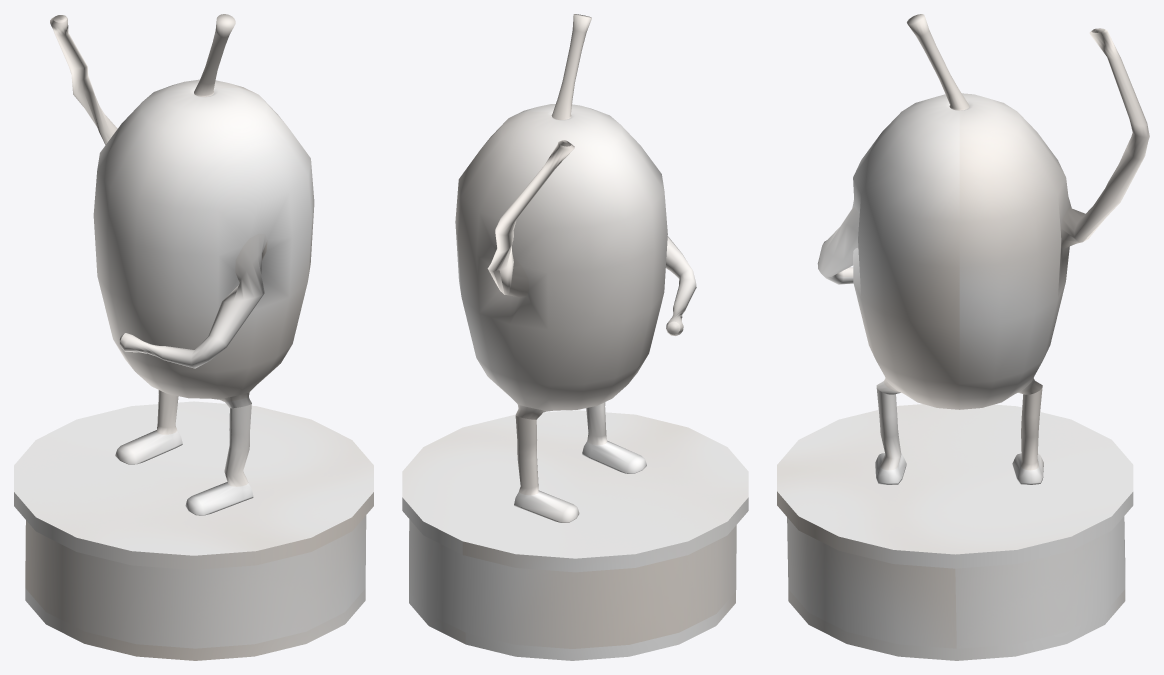
The model's file is Statue_2.fbx.
3 views of the same model, side by side, from view 1: azimuth 30°, elevation 25°; view 2: azimuth 150°, elevation 25°; view 3: azimuth 270°, elevation 25° (orthographic). The views are drawn at different scales.
Visible parts, largest first — view 1: grape body; view 2: grape body; view 3: grape body.
Boxes of the visible parts, bbox=[...] form: grape body: bbox=[14, 14, 373, 660]; grape body: bbox=[402, 14, 748, 660]; grape body: bbox=[777, 14, 1149, 660].
Size of the model in its own units: 16.26 by 28.64 by 16.75.
1 material, 1 textured.
